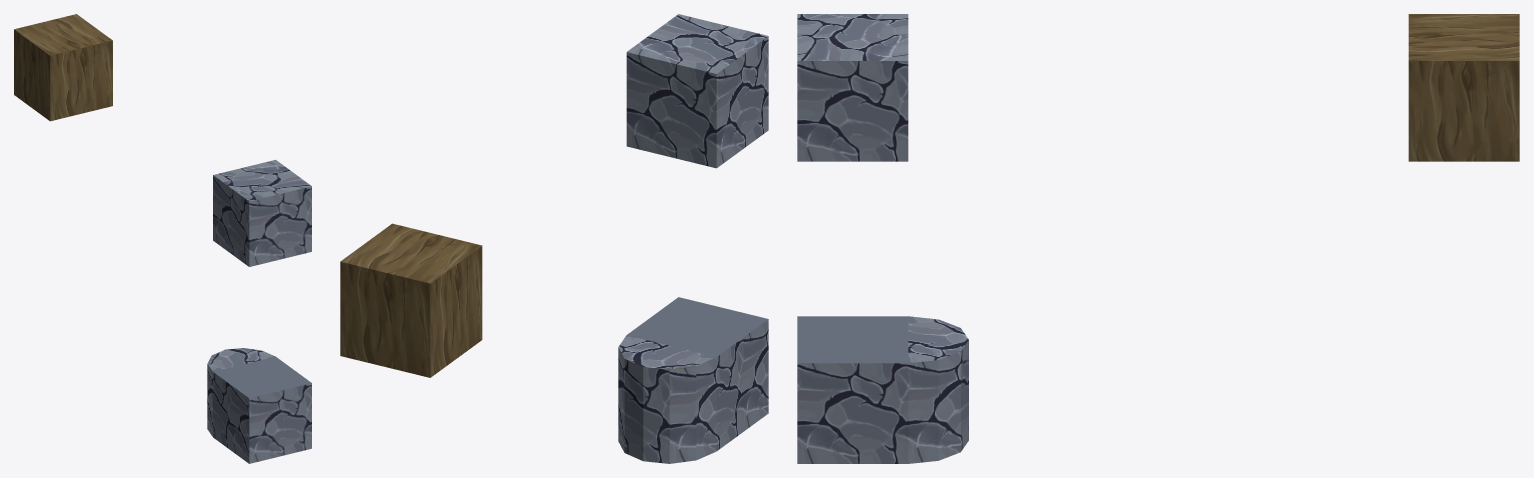
The model's file is GameJamBlocksUpdated.fbx.
The picture shows the model from 3 angles, left to right: view 1: azimuth 30°, elevation 25°; view 2: azimuth 150°, elevation 25°; view 3: azimuth 270°, elevation 25°; orthographic projection. The views are drawn at different scales.
Parts seen in each view (by area): view 1: StoneCorner, WoodCube, StoneCube; view 2: StoneCorner, StoneCube, WoodCube; view 3: StoneCorner, StoneCube, WoodCube.
Boxes of the visible parts, box(x1,y1,x2,y2) form: StoneCorner: box(207, 348, 311, 463); WoodCube: box(14, 14, 112, 121); StoneCube: box(213, 159, 311, 266); StoneCorner: box(618, 297, 768, 463); StoneCube: box(626, 14, 768, 168); WoodCube: box(340, 223, 482, 377); StoneCorner: box(797, 316, 968, 463); StoneCube: box(797, 14, 908, 161); WoodCube: box(1408, 14, 1519, 161).
Size of the model in its own units: 200 by 800 by 1300.
